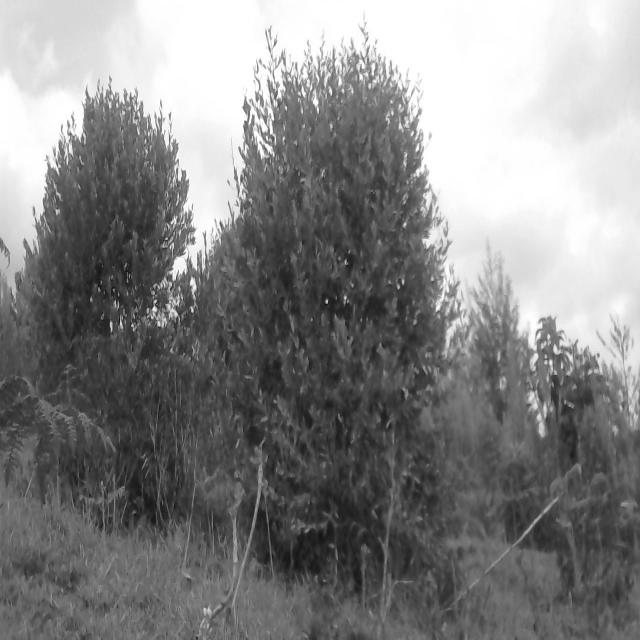Olea europea -africana-: (228, 7, 448, 631), (31, 64, 196, 516)
